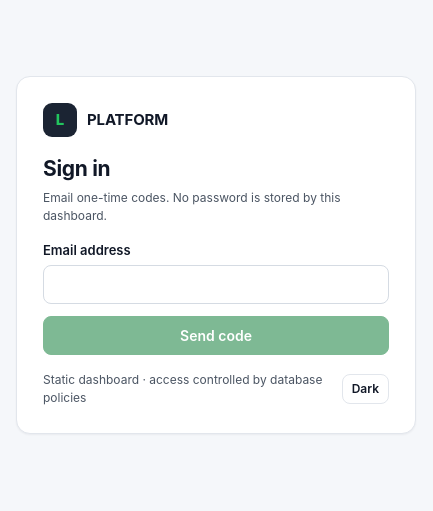
Scenario: login › rejects a wrong code with a generic error
The image size is (433, 511).
Expected: the heading "Sign in" is shown, [43,156,110,181]
Type "student@dashboard.test" into the field labelled "Email address". click: (216, 284)
box: [43,265,389,304]
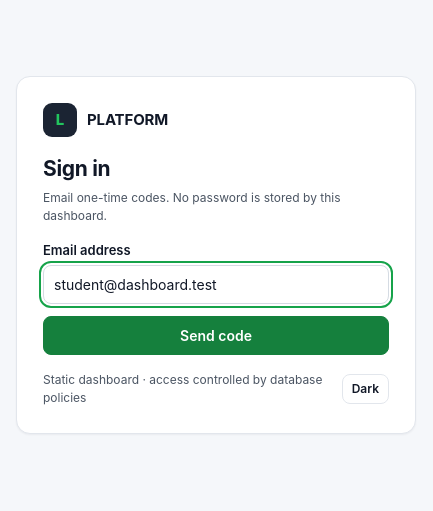
Click the button "Send code". click: (216, 336)
box: [43,316,389,355]
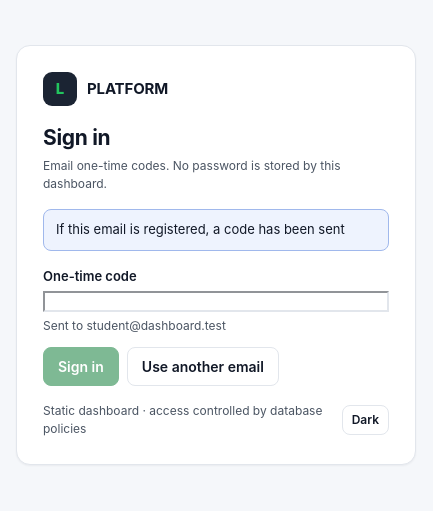
Type "000000" into the field labelled "One-time code". click: (216, 302)
box: [43,291,389,312]
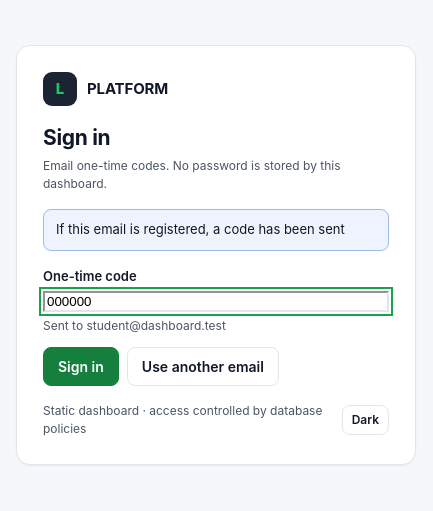
Click the button "Sign in". click: (81, 367)
box: [43,347,119,386]
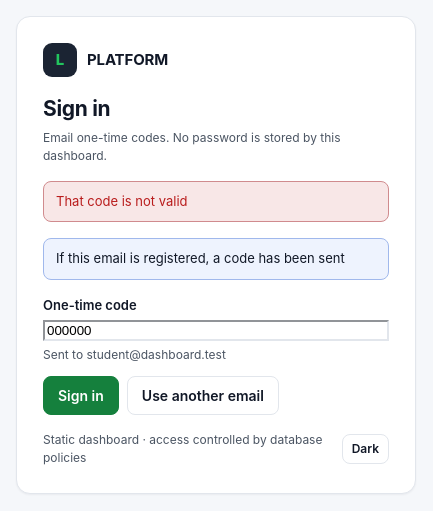
Expected: the text "That code is not valid" is shown, [43,180,389,222]
